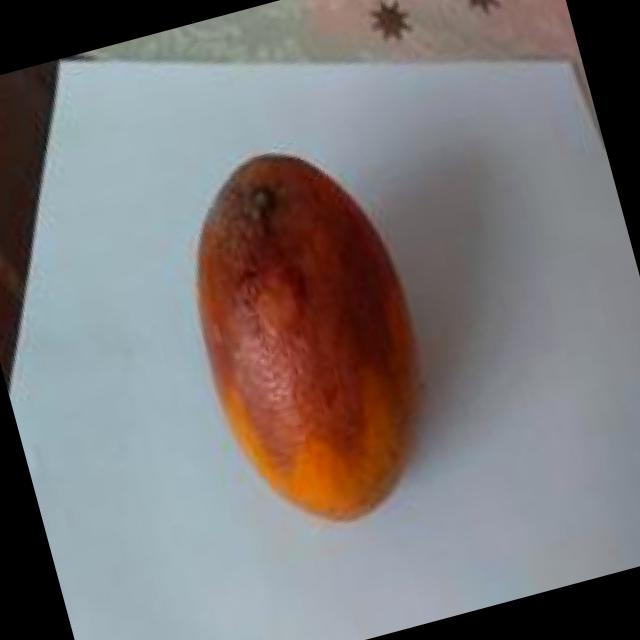Rotten_Orange: (147, 126, 530, 554)
